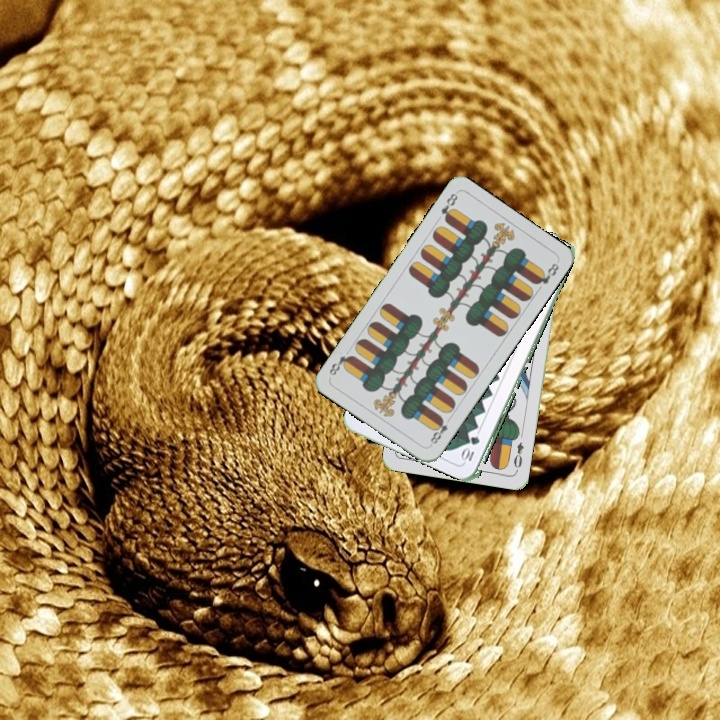E8: (426, 414, 451, 449), (437, 189, 461, 225)
EO: (510, 438, 526, 474)
G10: (460, 432, 482, 464)
